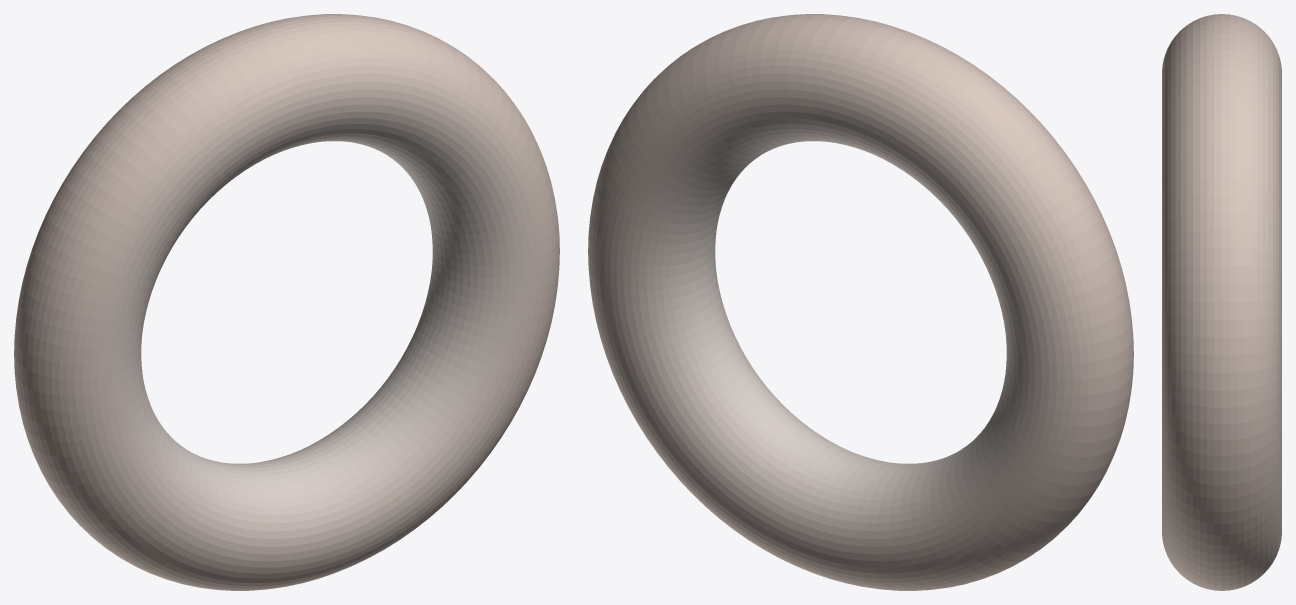
3 views of the same model, side by side, from view 1: azimuth 30°, elevation 25°; view 2: azimuth 150°, elevation 25°; view 3: azimuth 270°, elevation 25° (orthographic). The views are drawn at different scales.
Parts seen in each view (by area): view 1: world; view 2: world; view 3: world.
Part boxes in pixels (<box>): world: <box>14,14,559,590</box>; world: <box>588,14,1133,590</box>; world: <box>1162,14,1281,590</box>.
Bounding box in the file's own units: 16 × 16 × 3.33.
